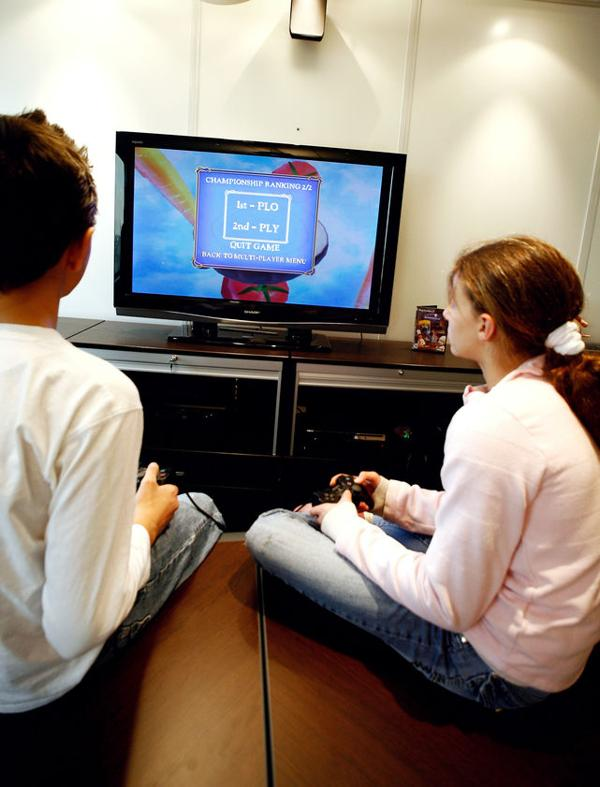person: (246, 239, 600, 728)
